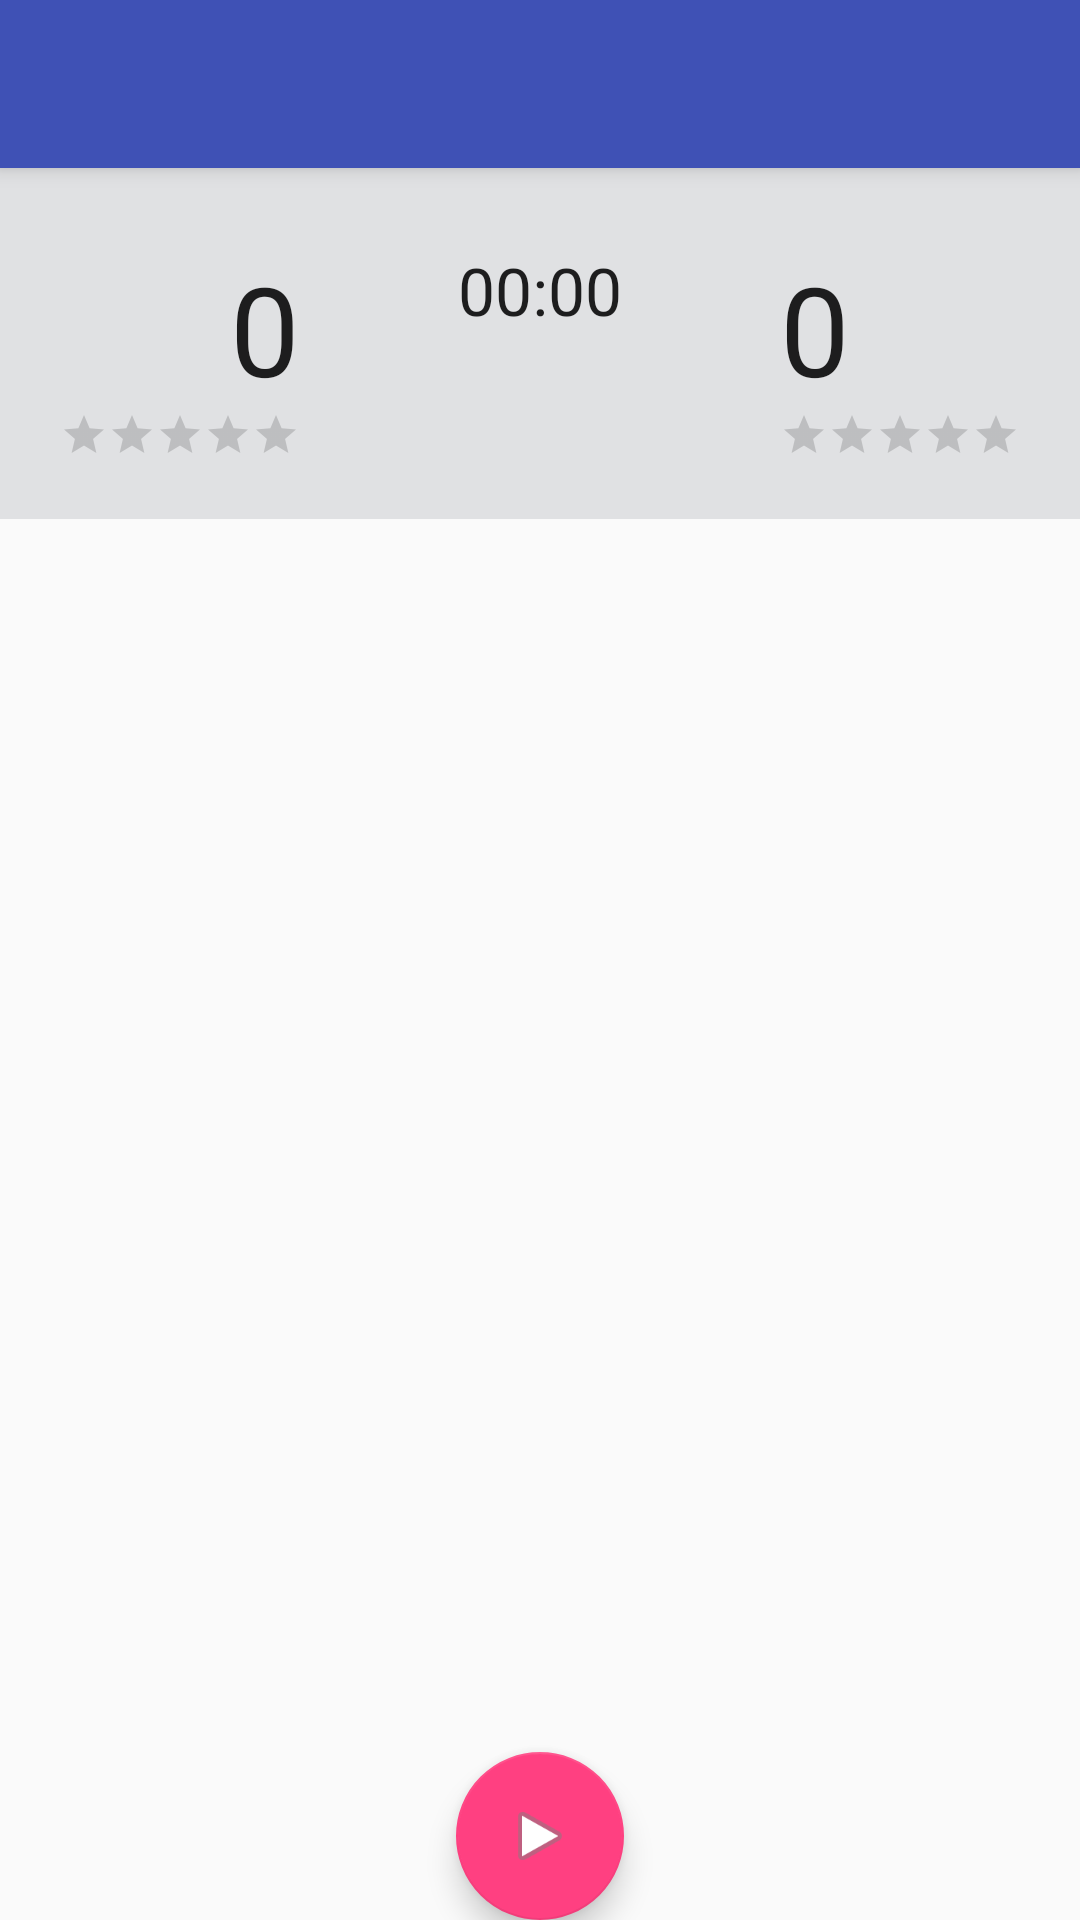

Screen size 1080x1920. Icon name, then its box in pixels as (x1, y1, x2, y2):
play: (456, 1752, 624, 1920)
